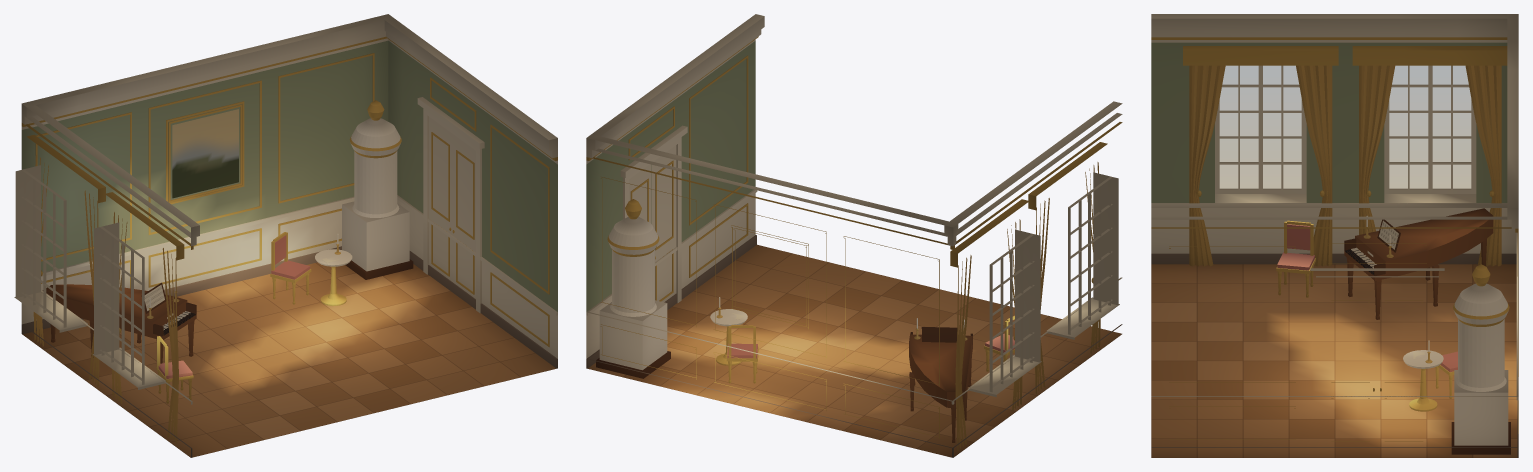
Rendered from mozart.room.glb.
3 renders of one model, left to right at view 1: azimuth 30°, elevation 25°; view 2: azimuth 150°, elevation 25°; view 3: azimuth 270°, elevation 25°, orthographic. The views are drawn at different scales.
Visible parts, largest first — view 1: room; view 2: room; view 3: room.
Part boxes in pixels (x1=…): room: x1=14, y1=14, x2=557, y2=457; room: x1=586, y1=14, x2=1122, y2=457; room: x1=1151, y1=14, x2=1518, y2=457.
Bounding box in the file's own units: 6.95 × 3.9 × 5.2.
